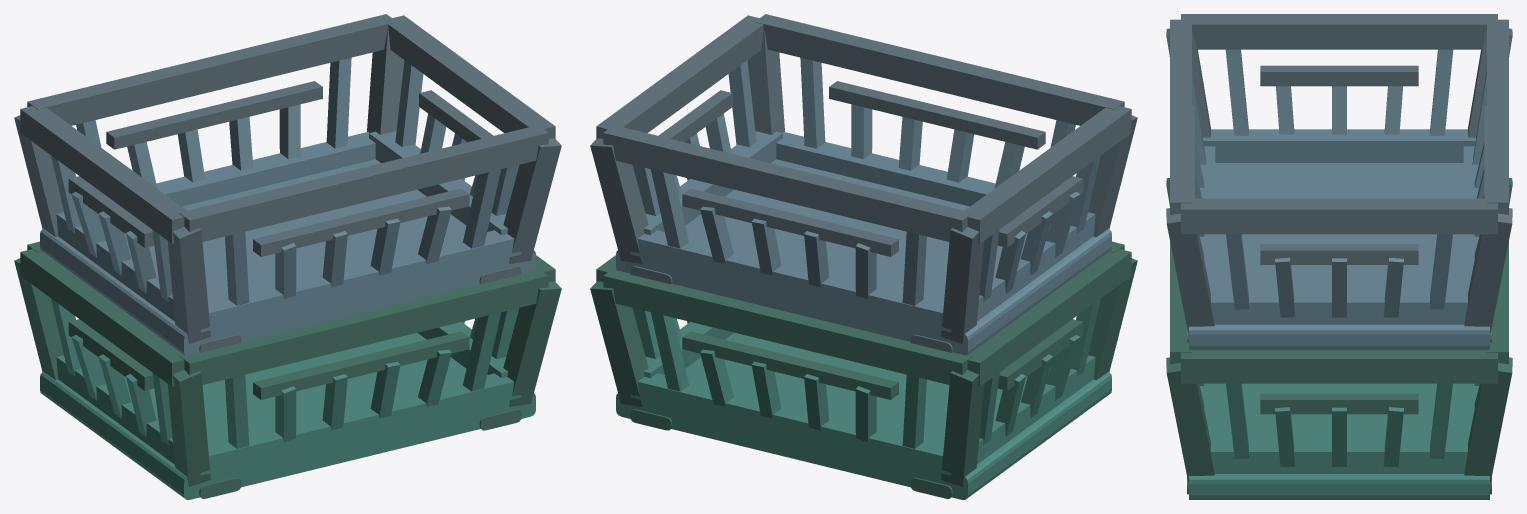
The model's file is stacked-crates-v1.glb.
3 renders of one model, left to right at view 1: azimuth 30°, elevation 25°; view 2: azimuth 150°, elevation 25°; view 3: azimuth 270°, elevation 25°, orthographic. The views are drawn at different scales.
Visible parts, largest first — view 1: 포개 놓은 플라스틱 바구니; view 2: 포개 놓은 플라스틱 바구니; view 3: 포개 놓은 플라스틱 바구니.
Boxes of the visible parts, left/top/right/bottom form: 포개 놓은 플라스틱 바구니: left=14, top=14, right=561, bottom=499; 포개 놓은 플라스틱 바구니: left=590, top=14, right=1137, bottom=499; 포개 놓은 플라스틱 바구니: left=1166, top=14, right=1512, bottom=499.
Bounding box in the file's own units: 0.438 × 0.3165 × 0.328.
